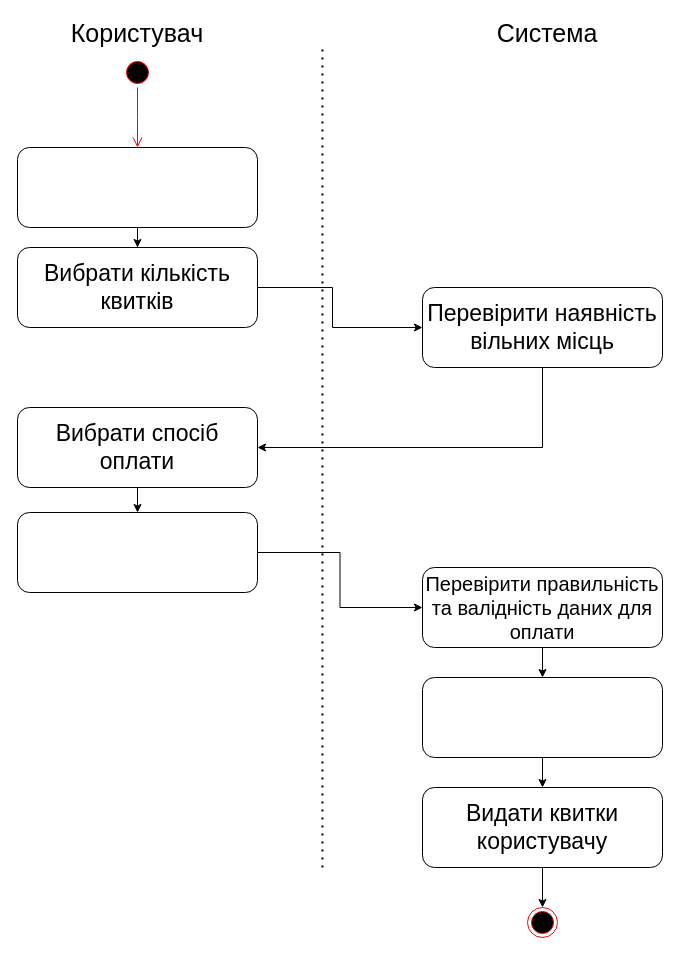
Some shapes in this 680 by 955 pixel diagram are drawn without their labels. Each missing label, with the centre of its shape:
"Ввести дані для оплати" belongs at (137,552).
"Вибрати доступну дату та час" belongs at (137,187).
"Обробити платіж" belongs at (542,717).
